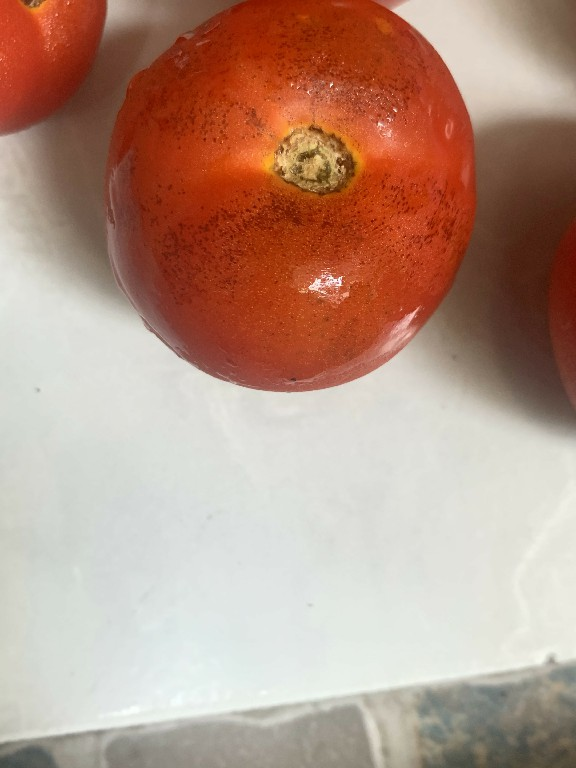NG: (76, 0, 495, 404)
